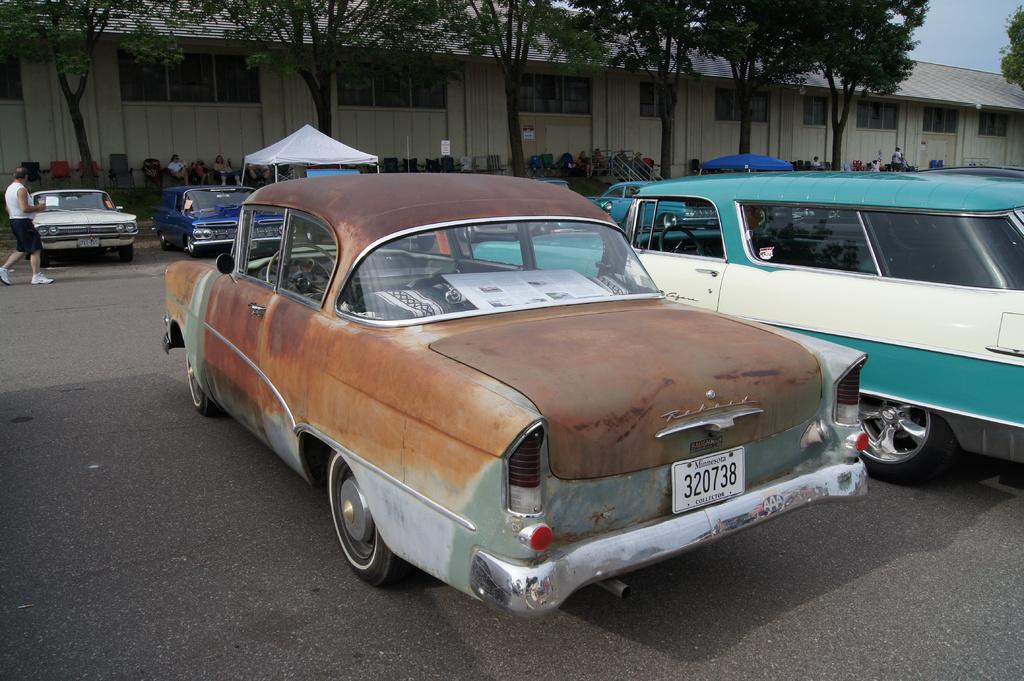mobil: (162, 172, 881, 647)
